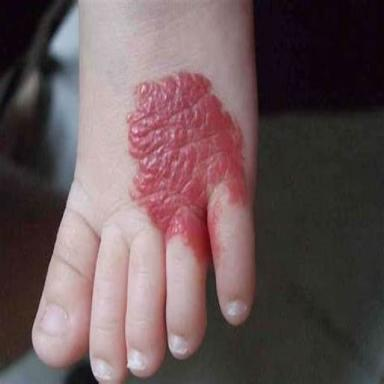Hemangiome: (127, 72, 247, 264)
